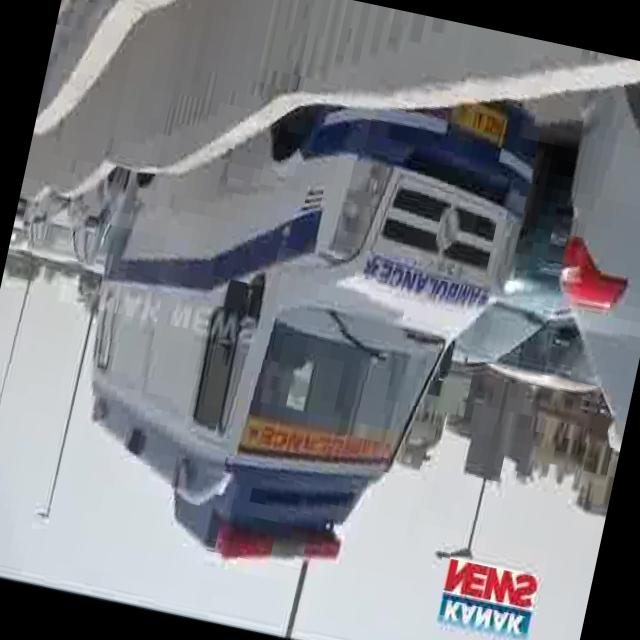ambulance: (49, 18, 548, 603)
